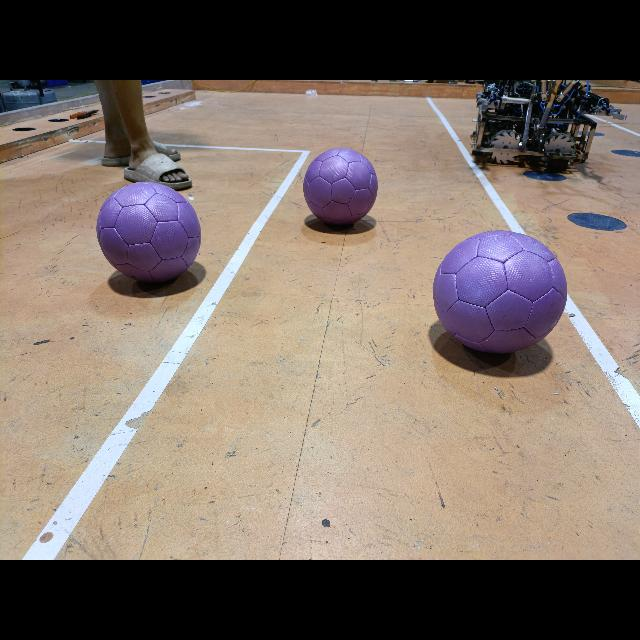P: (433, 230, 567, 354), (97, 182, 201, 282), (302, 148, 378, 225)
